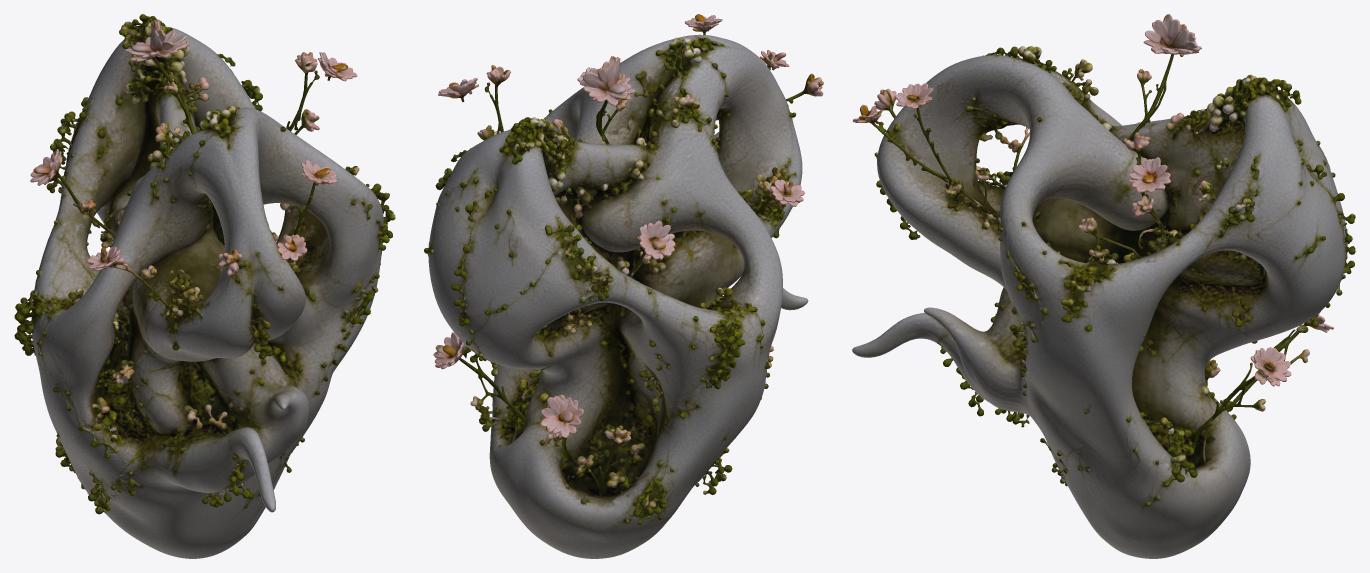
The model's file is muse-multiview.glb.
3 views of the same model, side by side, from view 1: azimuth 30°, elevation 25°; view 2: azimuth 150°, elevation 25°; view 3: azimuth 270°, elevation 25° (orthographic). The views are drawn at different scales.
Parts seen in each view (by area): view 1: tripo_node_99b8e60f-d361-40f5-b326-4cb3765e94cf; view 2: tripo_node_99b8e60f-d361-40f5-b326-4cb3765e94cf; view 3: tripo_node_99b8e60f-d361-40f5-b326-4cb3765e94cf.
Part boxes in pixels (left/top/right/bottom): tripo_node_99b8e60f-d361-40f5-b326-4cb3765e94cf: left=14, top=14, right=395, bottom=558; tripo_node_99b8e60f-d361-40f5-b326-4cb3765e94cf: left=424, top=14, right=823, bottom=558; tripo_node_99b8e60f-d361-40f5-b326-4cb3765e94cf: left=852, top=14, right=1355, bottom=558.
Size of the model in its own units: 0.6293 by 0.9796 by 0.8546.
Materials: 1 (1 with a texture image).
